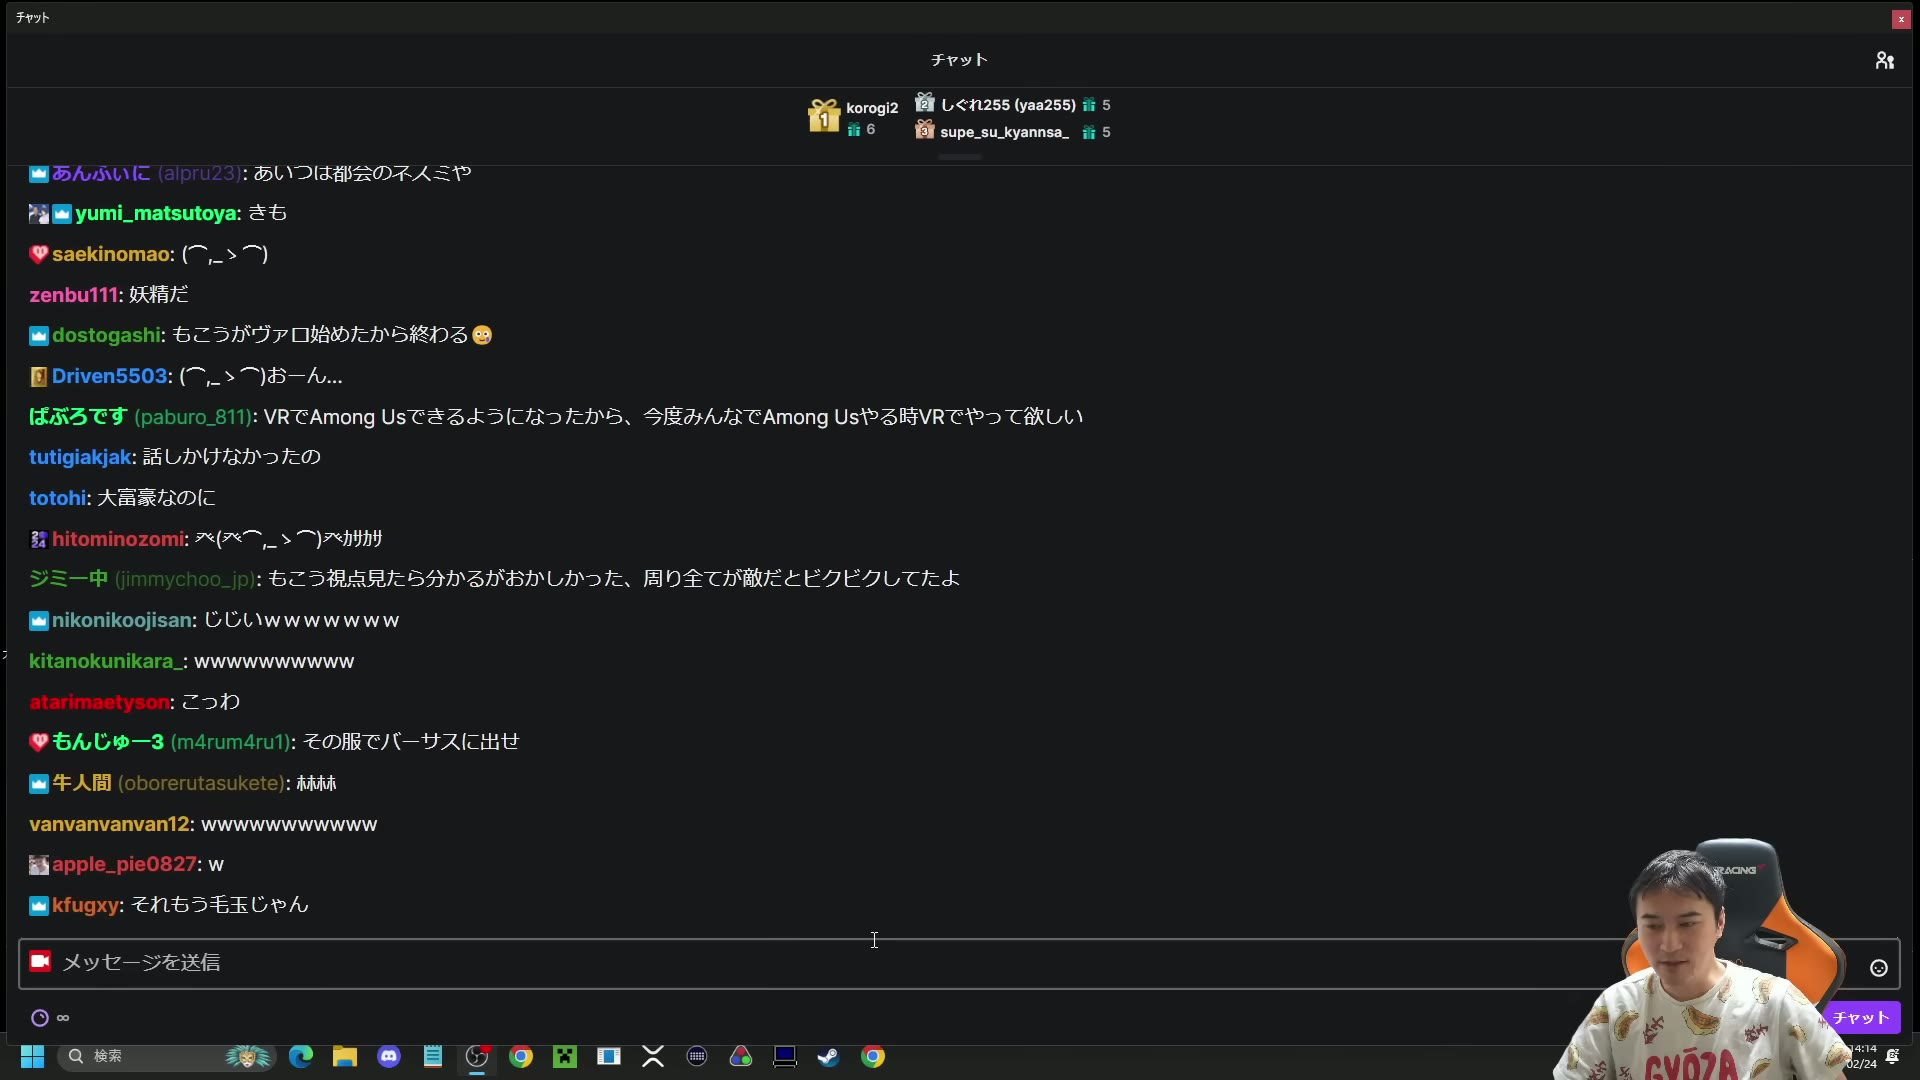stream_tag: (1540, 836, 1866, 1080)
